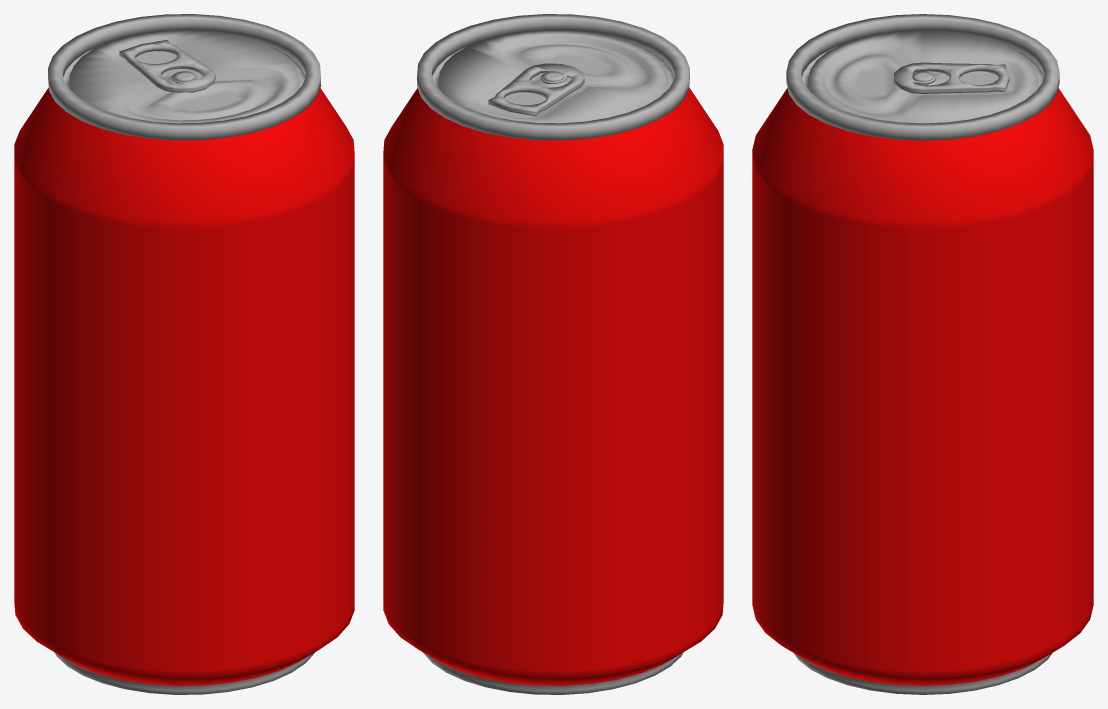
Rendered from soda_can.glb.
The picture shows the model from 3 angles, left to right: view 1: azimuth 30°, elevation 25°; view 2: azimuth 150°, elevation 25°; view 3: azimuth 270°, elevation 25°; orthographic projection.
Parts seen in each view (by area): view 1: Circle.000; view 2: Circle.000; view 3: Circle.000.
Part boxes in pixels (left/top/right/bottom): Circle.000: left=14, top=14, right=354, bottom=694; Circle.000: left=383, top=14, right=723, bottom=694; Circle.000: left=752, top=14, right=1093, bottom=694.
Size of the model in its own units: 1.74 by 3.18 by 1.74.
